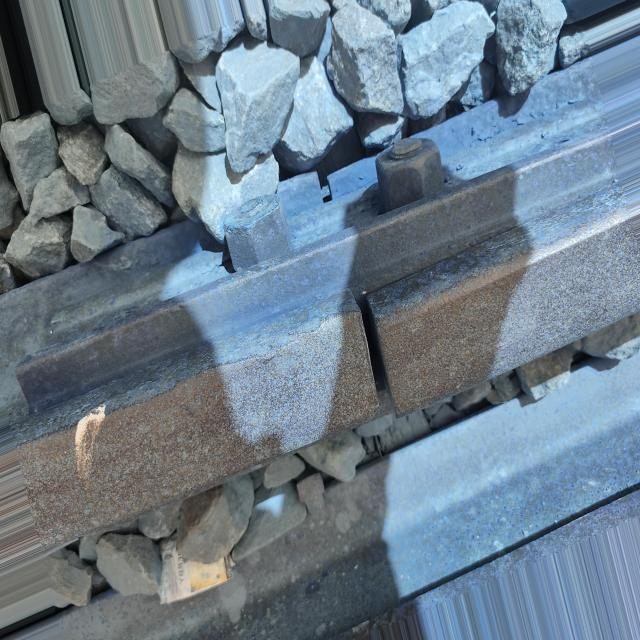Defective Joint: (11, 71, 619, 417)
